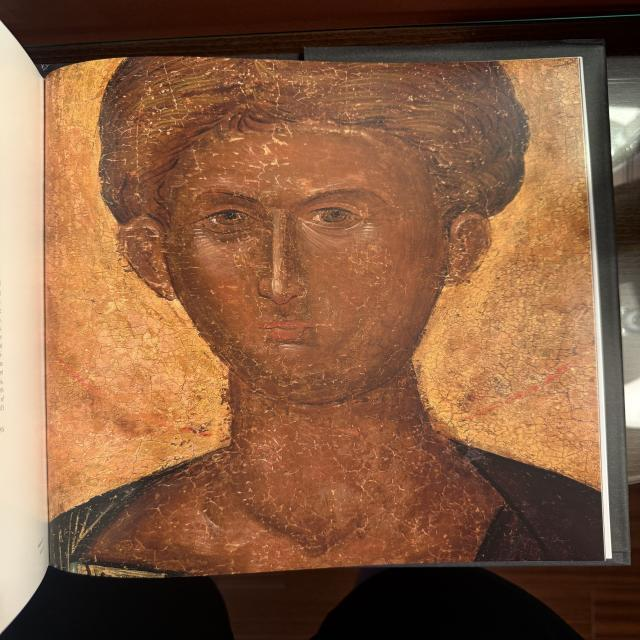saint: (58, 60, 574, 561)
